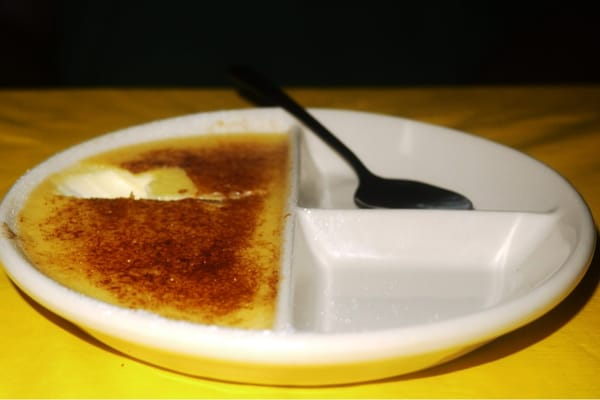burger: (227, 63, 471, 211)
